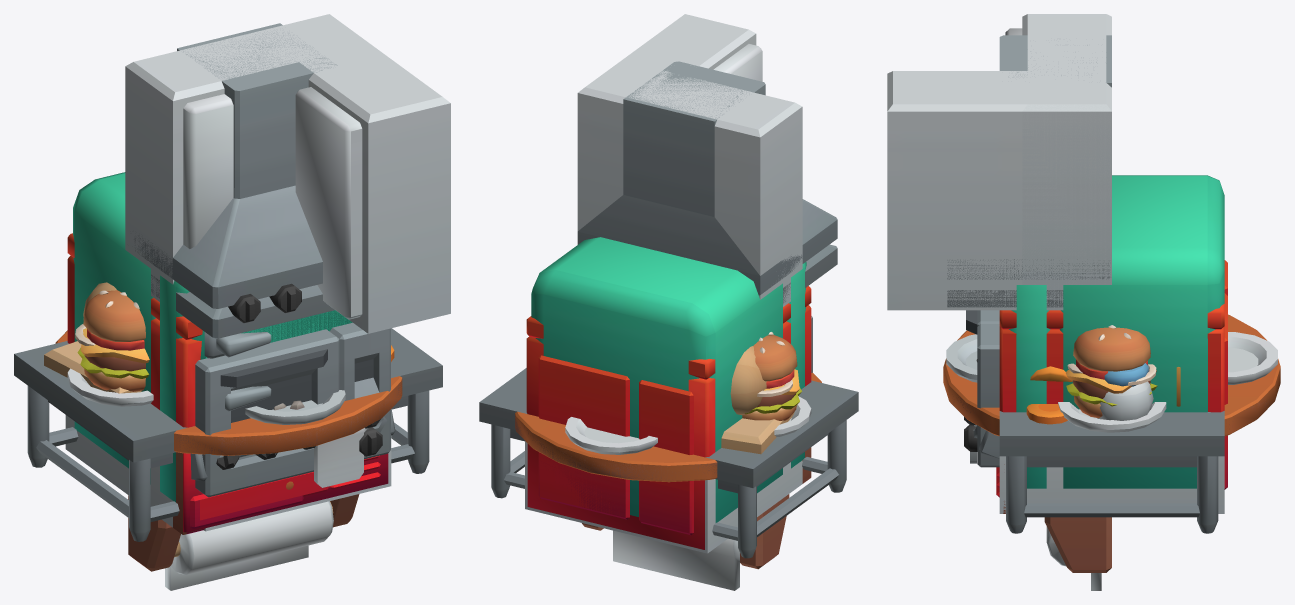
File: rest.glb
3 views of the same model, side by side, from view 1: azimuth 30°, elevation 25°; view 2: azimuth 150°, elevation 25°; view 3: azimuth 270°, elevation 25° (orthographic). The views are drawn at different scales.
Parts seen in each view (by area): view 1: kitchencabinet_corner, extractorhood, kitchencabinet, kitchentable_A_large, table_round_A_decorated, oven_door, Cube.068, shelf_papertowel_decorated, Cube.616, kitchentable_A_large_decorated, fridge_B_door, table_round_A (+8 smaller); view 2: Cube.616, extractorhood, kitchencabinet_corner, Cube.068, kitchencabinet, kitchentable_A_large, table_round_A_decorated, kitchentable_A_large_decorated, shelf_papertowel_decorated, stove_multi, table_round_A, kitchencounter_straight_decorated (+5 smaller); view 3: kitchencabinet_corner, Cube.616, kitchencabinet, kitchentable_A_large, table_round_A_decorated, Cube.068, kitchentable_A_large_decorated, fridge_B_door, extractorhood, shelf_papertowel_decorated, kitchencounter_straight_decorated, table_round_A (+1 smaller).
Boxes of the visible parts, bbox=[...] form: kitchencabinet_corner: bbox=[125, 14, 450, 333]; extractorhood: bbox=[134, 23, 337, 338]; kitchencabinet: bbox=[125, 14, 370, 301]; kitchentable_A_large: bbox=[14, 328, 442, 541]; table_round_A_decorated: bbox=[55, 290, 402, 454]; oven_door: bbox=[195, 329, 339, 497]; Cube.068: bbox=[67, 233, 390, 531]; shelf_papertowel_decorated: bbox=[128, 494, 359, 590]; Cube.616: bbox=[73, 172, 155, 484]; kitchentable_A_large_decorated: bbox=[14, 282, 442, 532]; fridge_B_door: bbox=[160, 275, 352, 502]; table_round_A: bbox=[174, 415, 382, 455]; Cube.616: bbox=[531, 237, 782, 522]; extractorhood: bbox=[577, 61, 837, 303]; kitchencabinet_corner: bbox=[577, 14, 802, 306]; Cube.068: bbox=[526, 286, 811, 549]; kitchencabinet: bbox=[578, 60, 802, 306]; kitchentable_A_large: bbox=[479, 368, 858, 558]; table_round_A_decorated: bbox=[515, 332, 821, 481]; kitchentable_A_large_decorated: bbox=[479, 346, 858, 550]; shelf_papertowel_decorated: bbox=[582, 494, 789, 590]; stove_multi: bbox=[539, 458, 691, 532]; table_round_A: bbox=[516, 421, 717, 482]; kitchencounter_straight_decorated: bbox=[525, 441, 802, 553]; kitchencabinet_corner: bbox=[887, 14, 1111, 310]; Cube.616: bbox=[1059, 175, 1224, 488]; kitchencabinet: bbox=[1005, 14, 1111, 310]; kitchentable_A_large: bbox=[999, 411, 1224, 533]; table_round_A_decorated: bbox=[943, 314, 1280, 435]; Cube.068: bbox=[964, 260, 1227, 497]; kitchentable_A_large_decorated: bbox=[1000, 363, 1224, 525]; fridge_B_door: bbox=[1009, 285, 1050, 488]; extractorhood: bbox=[947, 35, 1111, 307]; shelf_papertowel_decorated: bbox=[1044, 517, 1111, 590]; kitchencounter_straight_decorated: bbox=[1027, 456, 1224, 513]; table_round_A: bbox=[943, 374, 1280, 436].
Size of the model in its own units: 3 by 4.91 by 3.5.
1 material, 1 textured.
